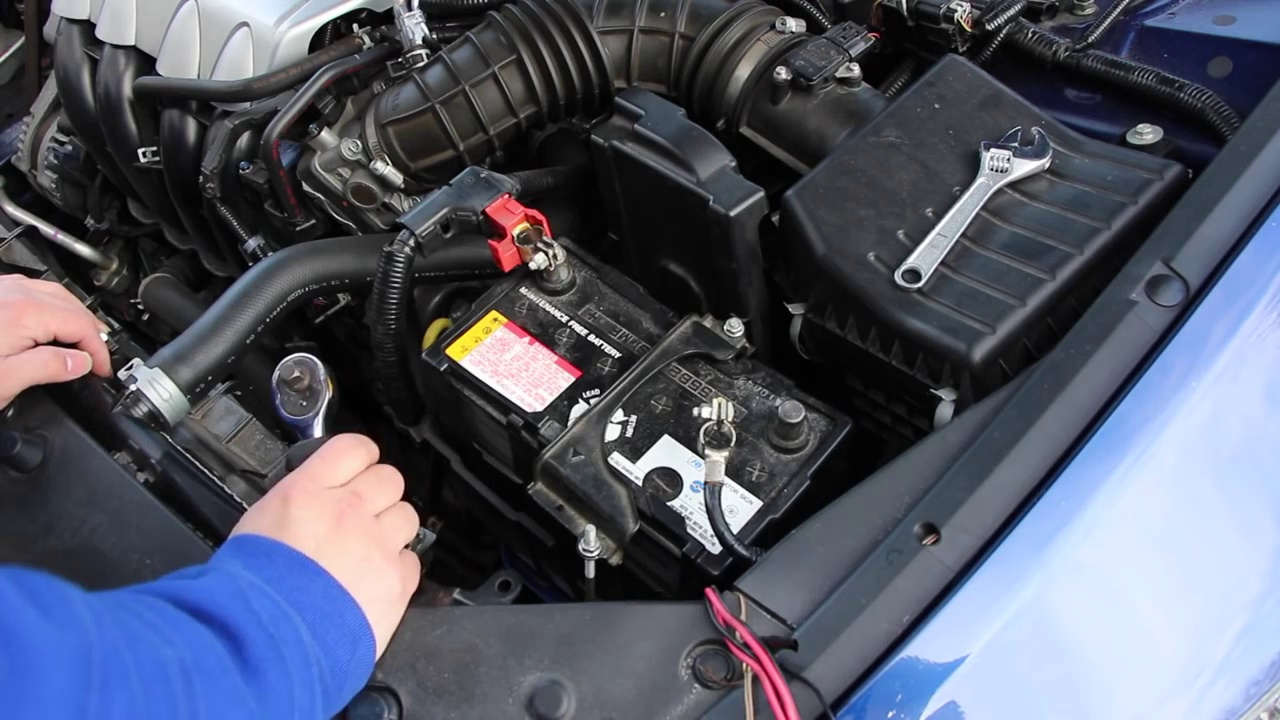battery: (419, 223, 855, 586)
neg_disconnected: (687, 377, 833, 492)
pos_connected: (468, 184, 573, 308)
